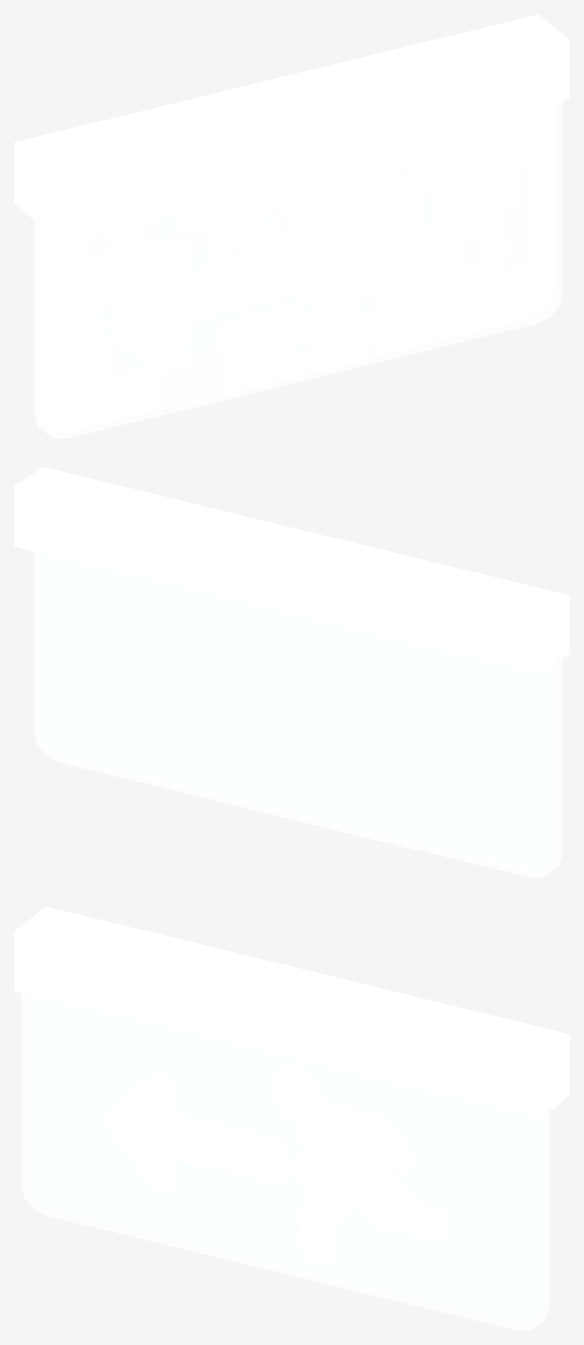
The model's file is exit-sign.lod1.glb.
The picture shows the model from 3 angles, top to bottom: view 1: azimuth 30°, elevation 25°; view 2: azimuth 150°, elevation 25°; view 3: azimuth 330°, elevation 25°; orthographic projection.
Visible parts, largest first — view 1: defaultMaterial; view 2: defaultMaterial; view 3: defaultMaterial.
Boxes of the visible parts, bbox=[...] form: defaultMaterial: bbox=[14, 14, 569, 438]; defaultMaterial: bbox=[14, 467, 569, 877]; defaultMaterial: bbox=[14, 906, 569, 1330].
Bounding box in the file's own units: 0.38 × 0.1962 × 0.0383.
1 material, 1 textured.
